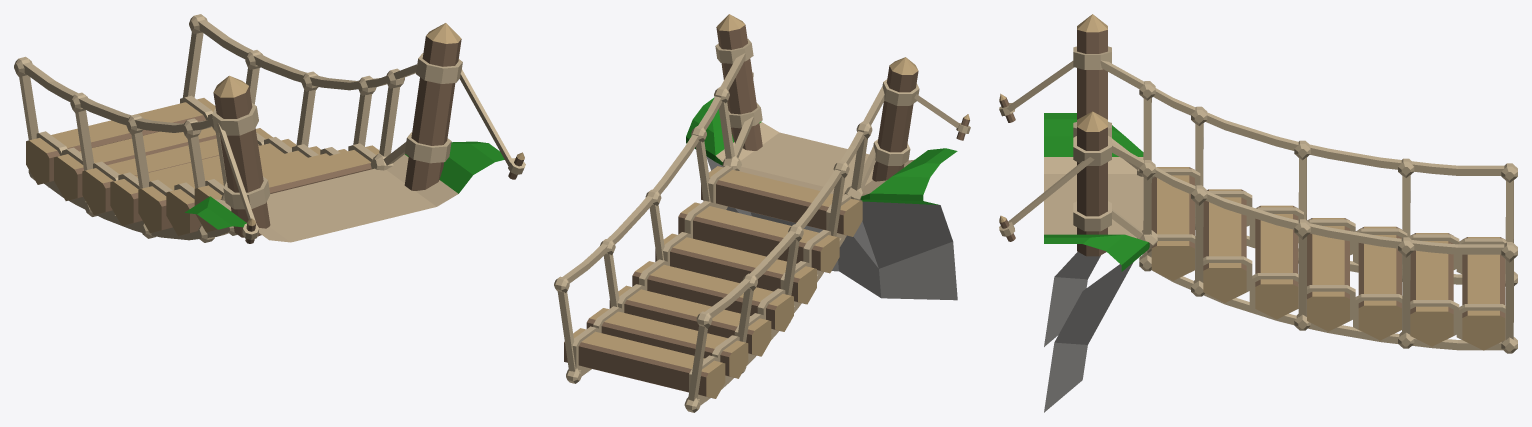
The model's file is Cliff_Prop_Bridge_Rope_End.glb.
3 renders of one model, left to right at view 1: azimuth 30°, elevation 25°; view 2: azimuth 150°, elevation 25°; view 3: azimuth 270°, elevation 25°, orthographic. The views are drawn at different scales.
Visible parts, largest first — view 1: Cliff_Prop_Bridge_Rope_End; view 2: Cliff_Prop_Bridge_Rope_End; view 3: Cliff_Prop_Bridge_Rope_End.
Part boxes in pixels (x1,y1,x2,y2): Cliff_Prop_Bridge_Rope_End: (14, 14, 525, 243); Cliff_Prop_Bridge_Rope_End: (554, 14, 970, 412); Cliff_Prop_Bridge_Rope_End: (999, 14, 1517, 412).
Bounding box in the file's own units: 2 × 2.02 × 3.34.
